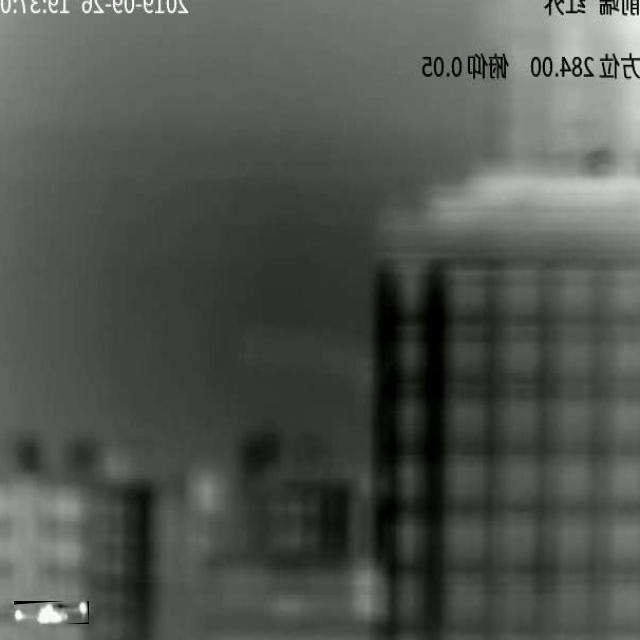drone: (14, 601, 88, 624)
